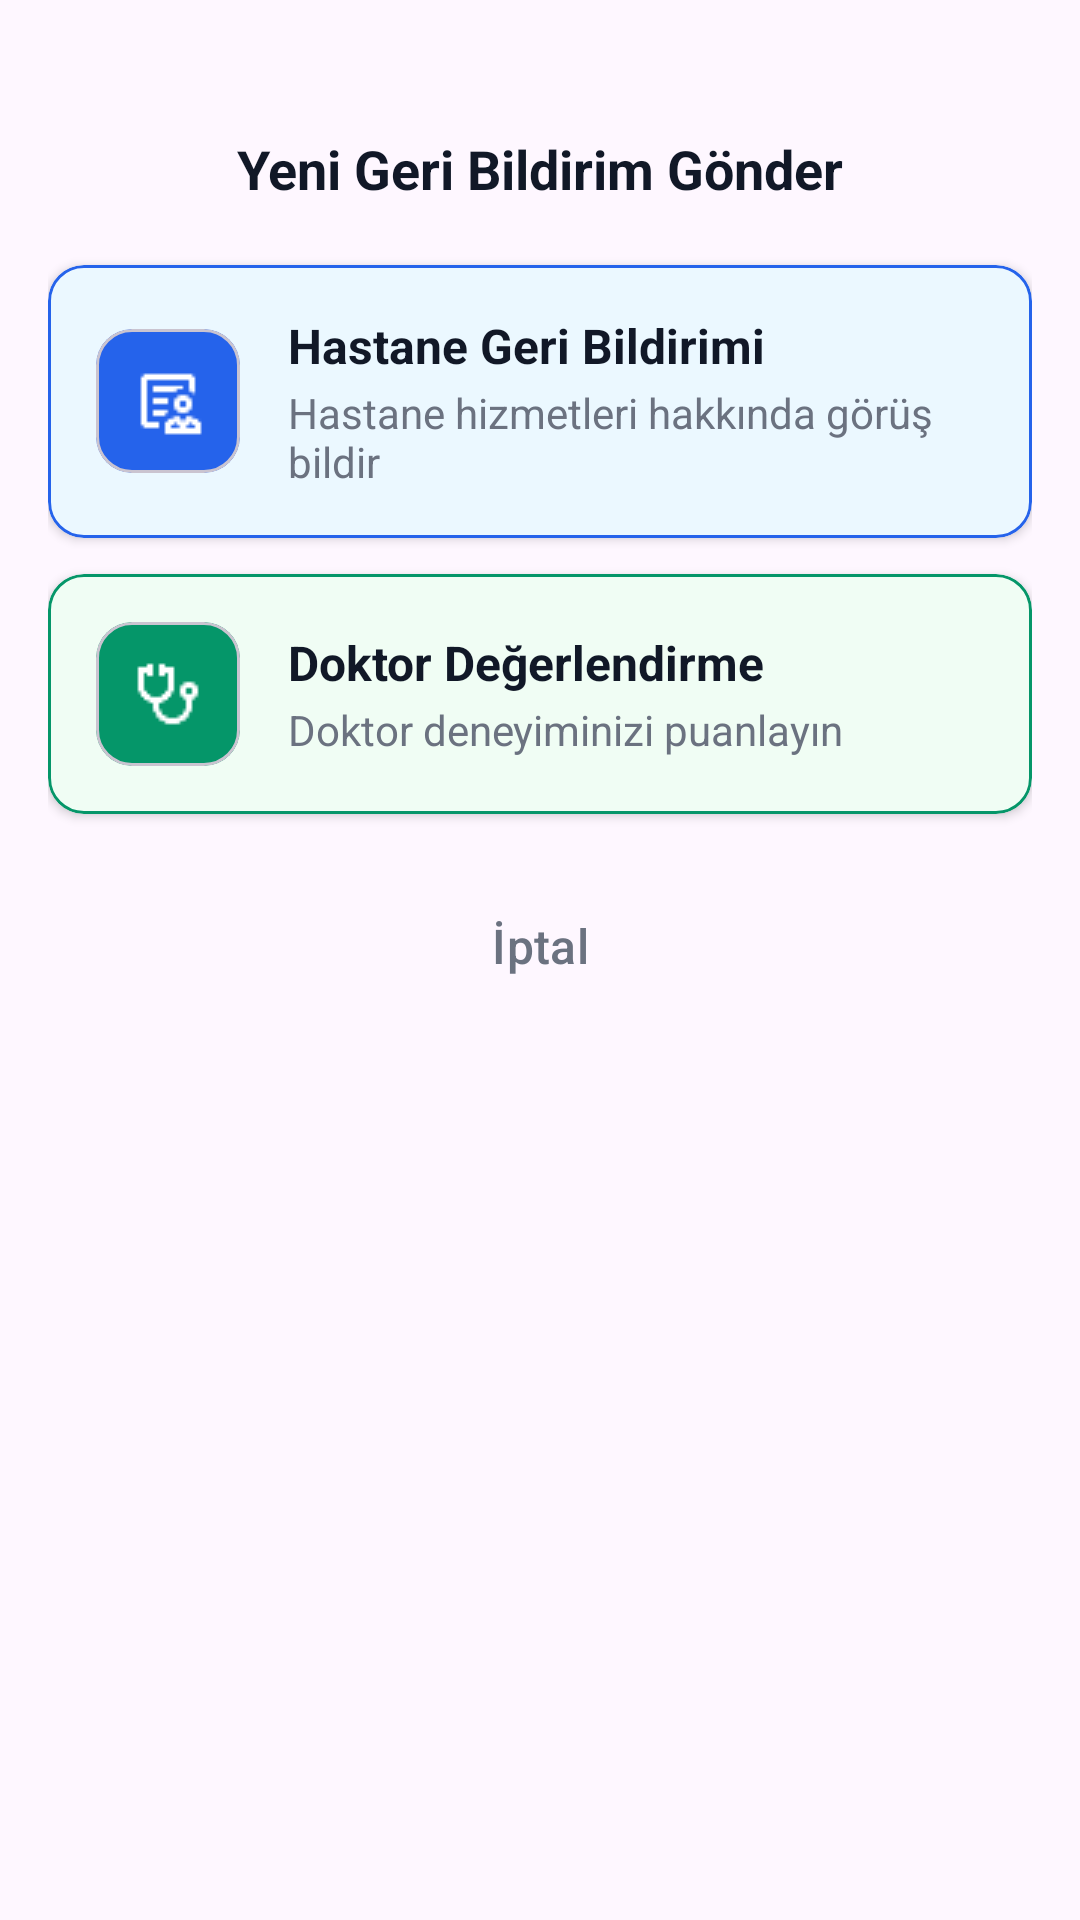

Screen size 1080 x 1920. Icon name, then its center in pixels as point (x, y):
doctor: point (168, 694)
